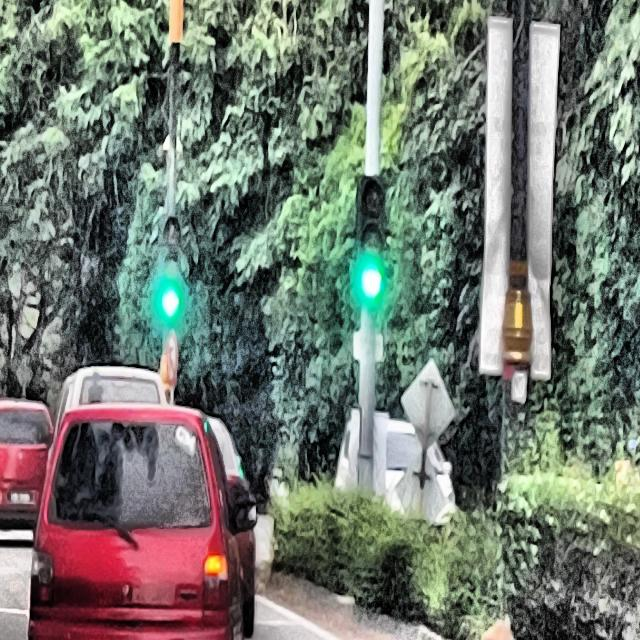green: (355, 175, 383, 302), (157, 216, 181, 319)
